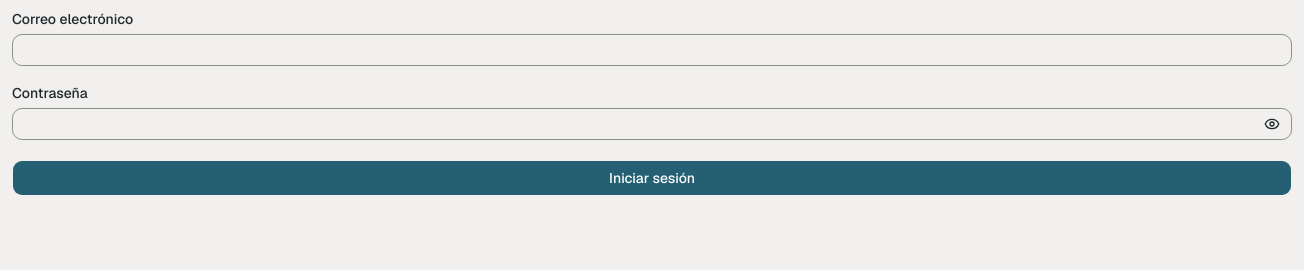
Scenario: LoginForm › muestra el mensaje exacto para credenciales inválidas y limpia solo la contraseña
Step 1. Type "ana@example.com" into the field labelled "Correo electrónico" → point(652, 50), box [12, 34, 1292, 66]
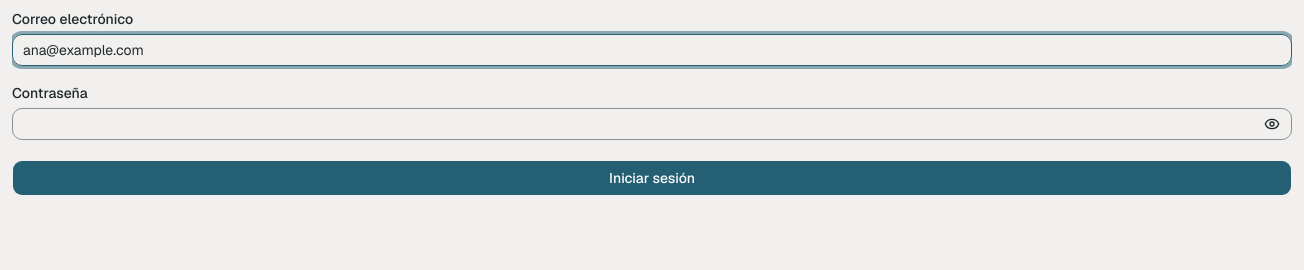
Step 2. Type "secreto" into the password field labelled "Contraseña" → point(652, 124), box [12, 108, 1292, 140]
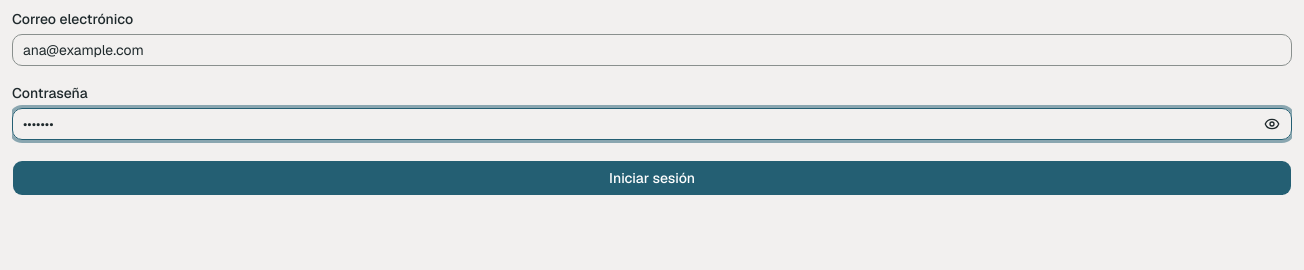
Step 3. Click the button "Iniciar sesión" → point(652, 178), box [12, 160, 1292, 196]
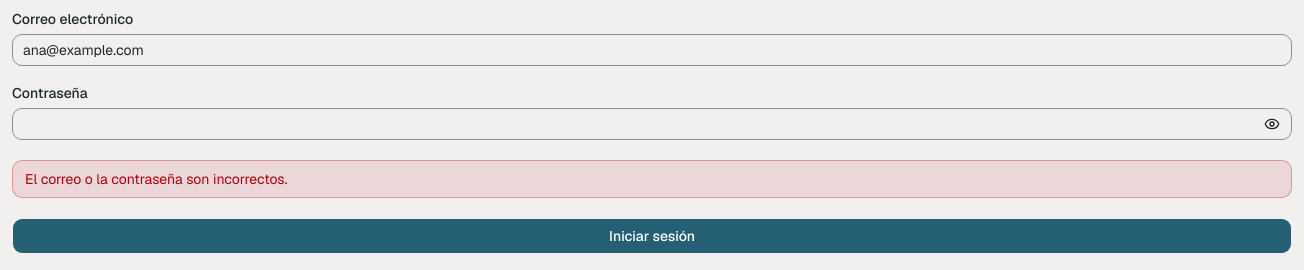
Expected: the message reads "El correo o la contraseña son incorrectos.", [25, 170, 287, 188]
Expected: the password field labelled "Contraseña" is empty, [12, 108, 1292, 140]
